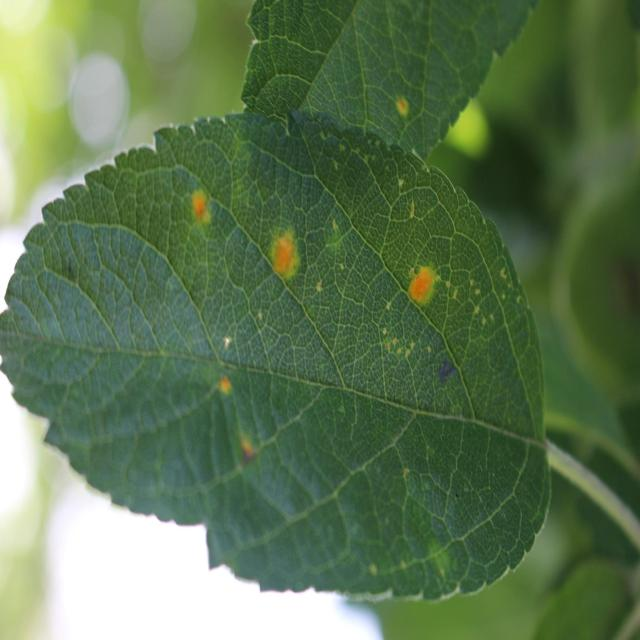Rust: (258, 217, 308, 285), (405, 246, 443, 312), (226, 429, 273, 477), (181, 175, 212, 231), (211, 359, 239, 399), (395, 82, 413, 133)
